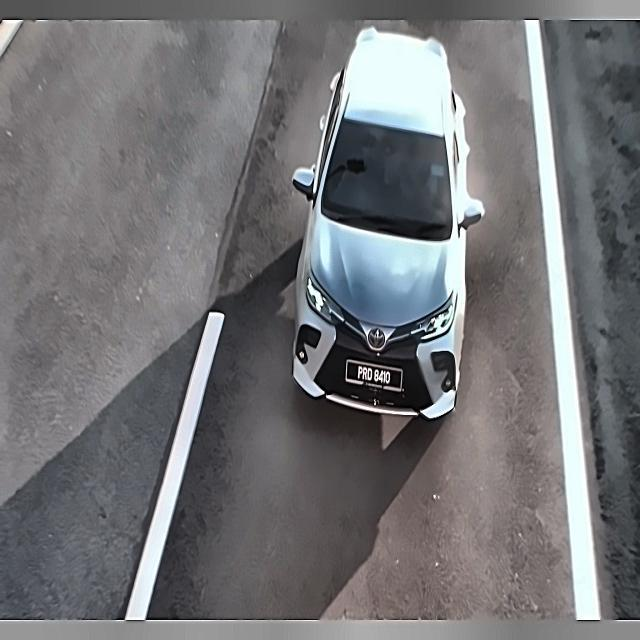car: (342, 352, 406, 400)
